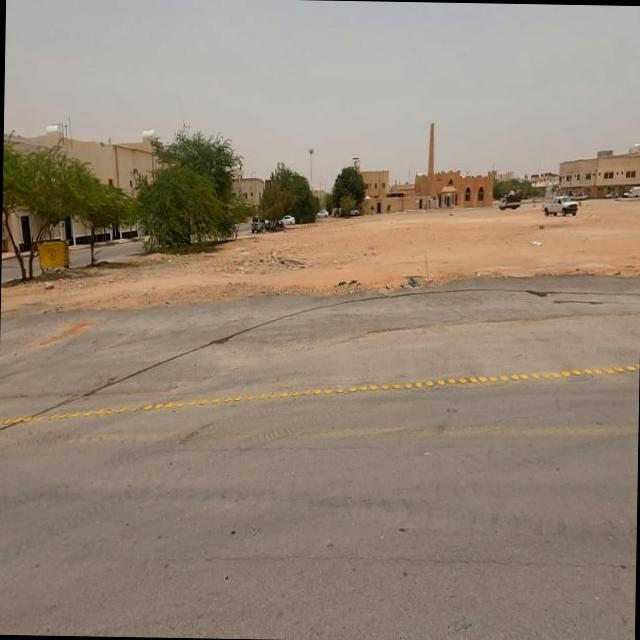debris: (314, 244, 380, 324), (383, 246, 450, 318), (249, 226, 312, 284), (518, 222, 558, 270), (25, 264, 73, 303), (156, 236, 195, 278)
